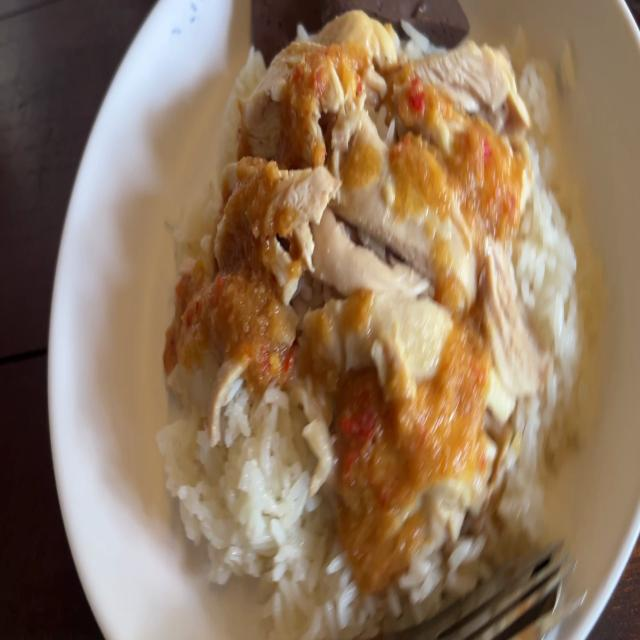boiled_chicken: (193, 31, 498, 528)
boiled_chicken_blood_jelly: (253, 0, 475, 51)
chicken_rice: (157, 0, 586, 604)
